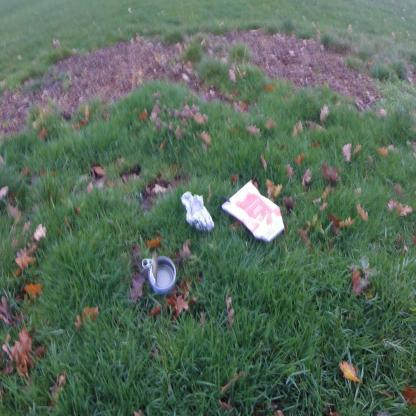karton: (222, 181, 286, 245)
metal: (144, 252, 178, 297), (182, 193, 216, 234)
